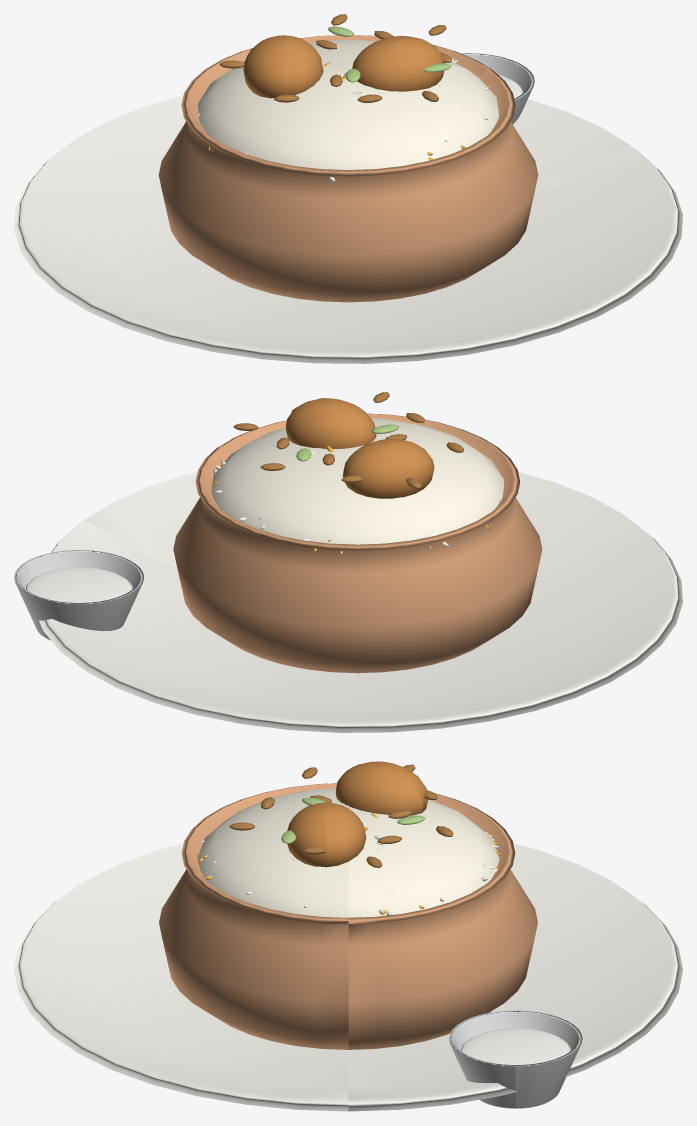
Rendered from chicken-biryani.glb.
3 views of the same model, one above another, from view 1: azimuth 30°, elevation 25°; view 2: azimuth 150°, elevation 25°; view 3: azimuth 270°, elevation 25° (orthographic). The views are drawn at different scales.
Parts seen in each view (by area): view 1: chicken-biryani; view 2: chicken-biryani; view 3: chicken-biryani.
Part boxes in pixels (left/top/right/bottom): chicken-biryani: left=14, top=14, right=682, bottom=363; chicken-biryani: left=14, top=392, right=682, bottom=732; chicken-biryani: left=14, top=761, right=682, bottom=1111.
Bounding box in the file's own units: 0.3 × 0.104 × 0.3.
